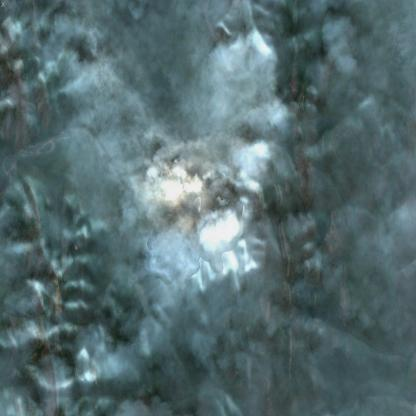fire: (152, 156, 210, 214)
